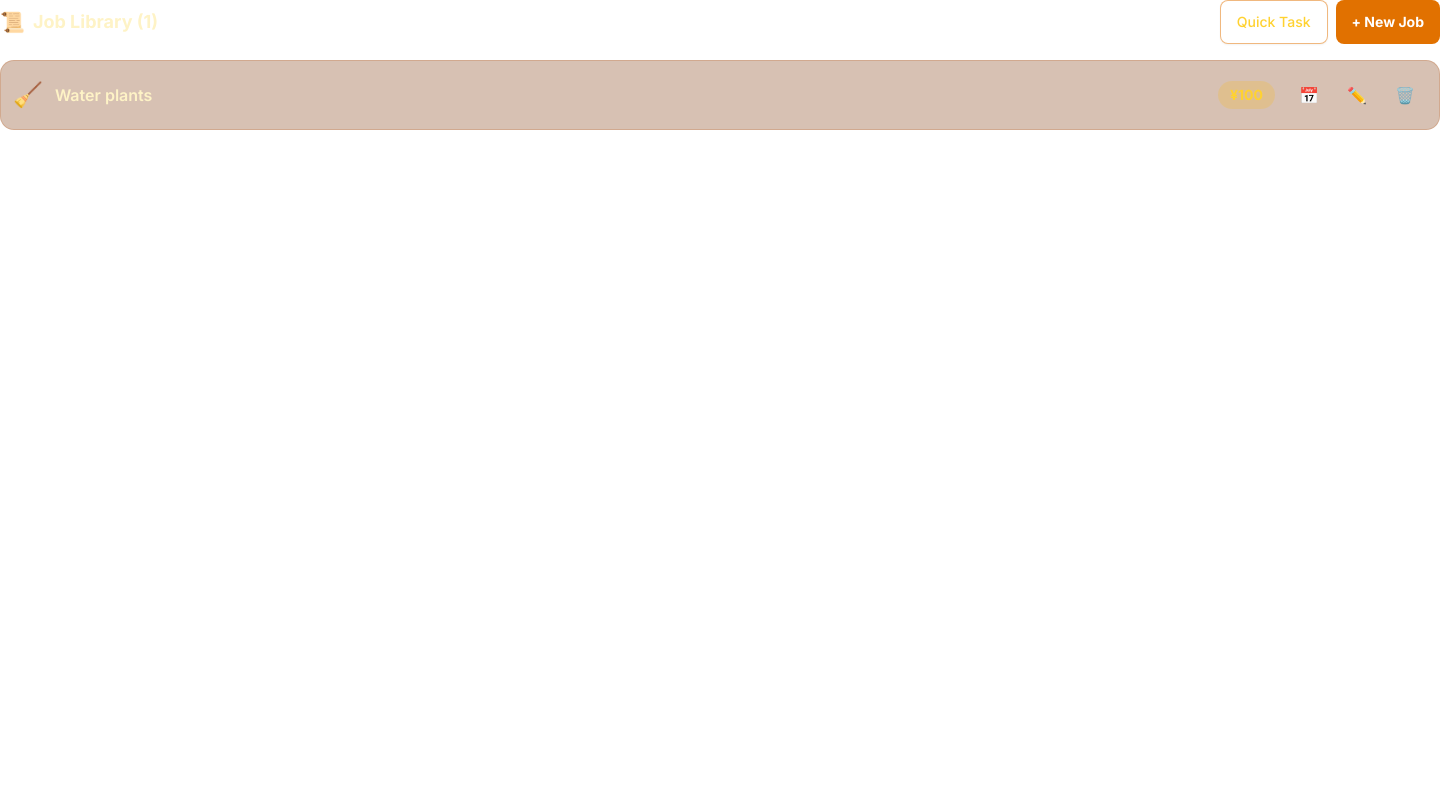
Test: JobManager › opens the JobForm dialog with the row's title when edit is clicked
# The edit button uses aria-label from `job_manager_edit_aria`.
Click the button named "edit".
click(1357, 95)  # box [1335,73,1379,117]
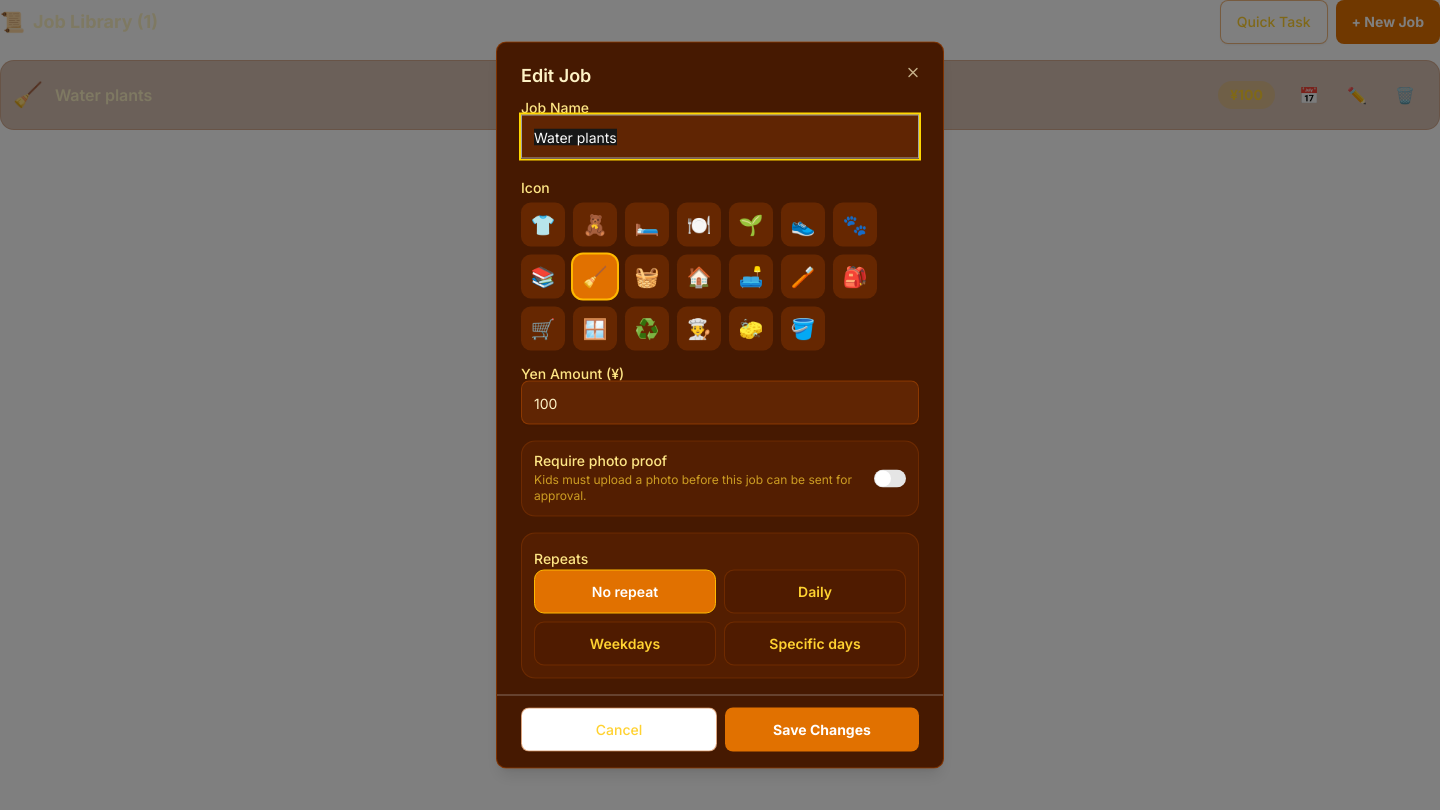
Result: the field labelled "Job Name" holds "Water plants" at [521,114,919,158]
